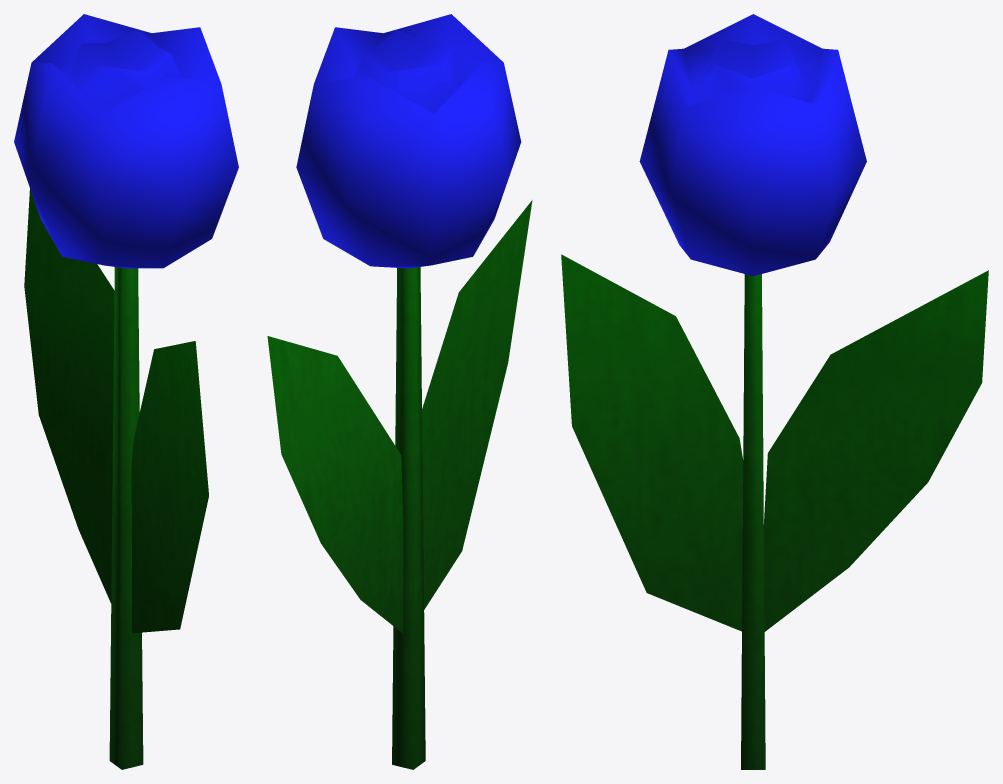
File: turnip.fbx
The picture shows the model from 3 angles, left to right: view 1: azimuth 30°, elevation 25°; view 2: azimuth 150°, elevation 25°; view 3: azimuth 270°, elevation 25°; orthographic projection.
Parts seen in each view (by area): view 1: turnip; view 2: turnip; view 3: turnip.
Part boxes in pixels (bbox=[...]): turnip: bbox=[14, 14, 238, 769]; turnip: bbox=[267, 14, 532, 769]; turnip: bbox=[561, 14, 988, 769].
Size of the model in its own units: 0.1378 by 0.4783 by 0.2594.
